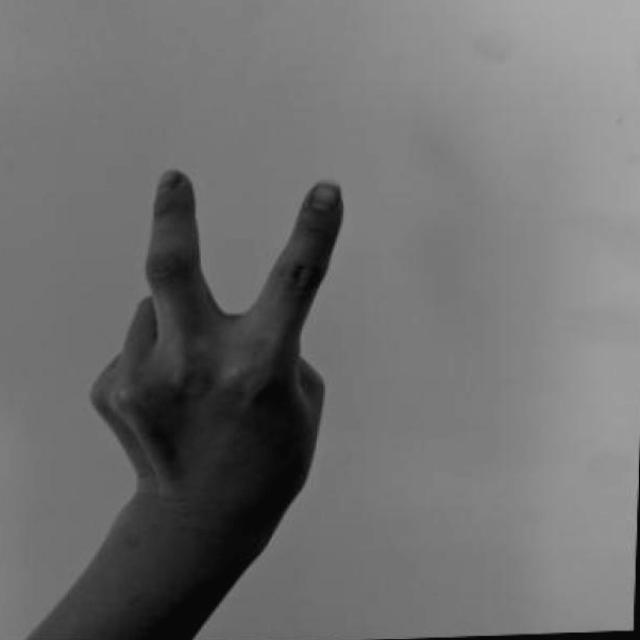V: (62, 170, 362, 640)
